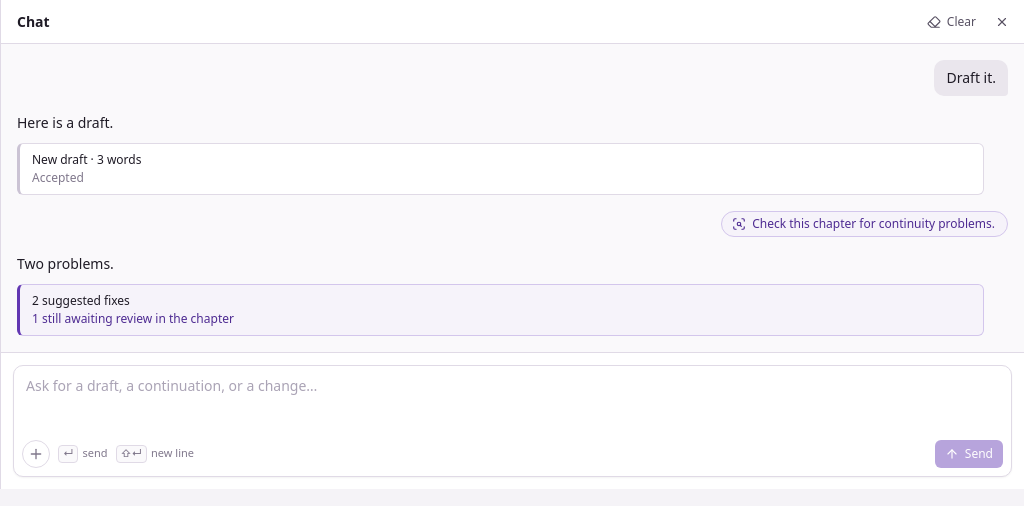
Test: ChatPane › runs a specialist from the + picker
Step 1. Click the button named "run a specialist" → click(36, 454), box top-left (22, 440), bottom-right (50, 468)
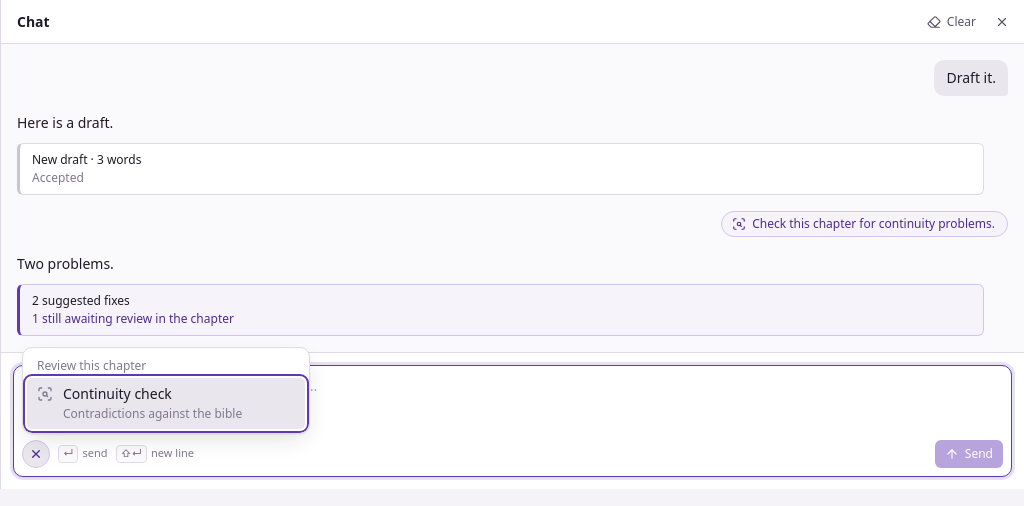
Now the text "Contradictions against the bible" is shown, box top-left (63, 406), bottom-right (242, 422)
Step 2. Click the menu item "Continuity check Contradictions against the bible" → click(166, 403), box top-left (27, 378), bottom-right (305, 428)
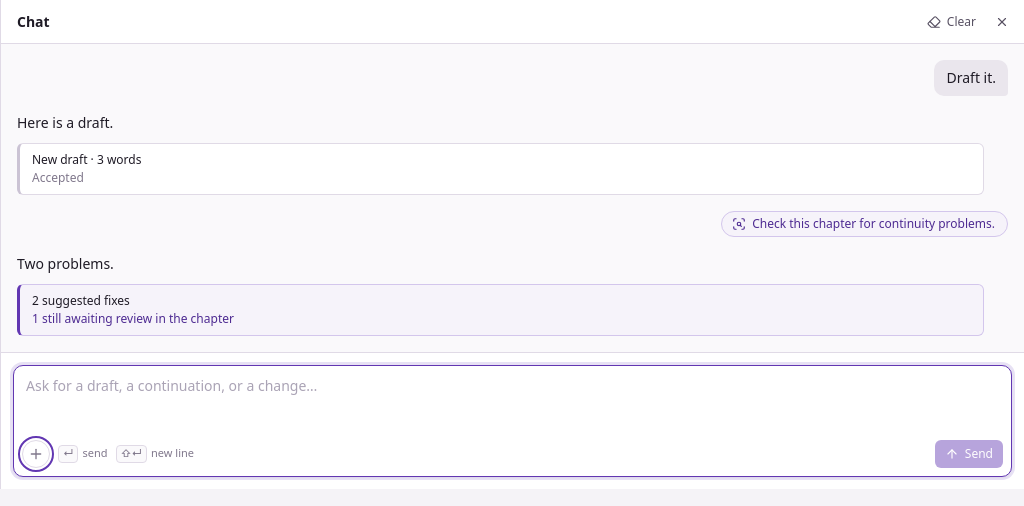
Now the menu is gone
